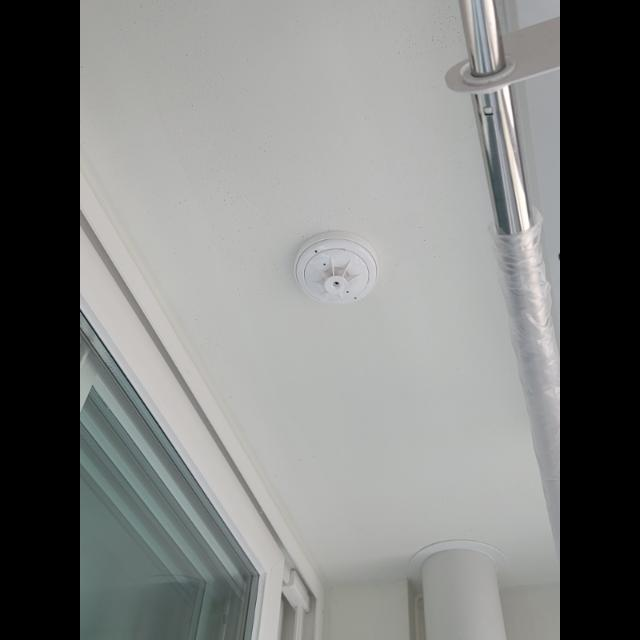Smoke-Detector: (295, 235, 379, 308)
